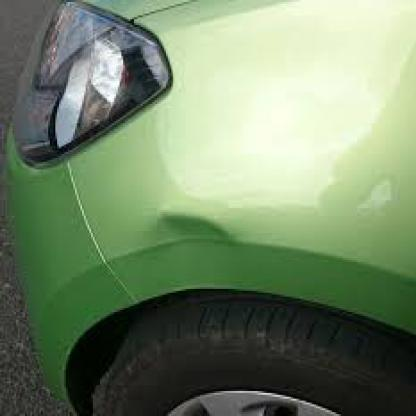dent: (154, 205, 230, 248), (355, 171, 407, 226)
